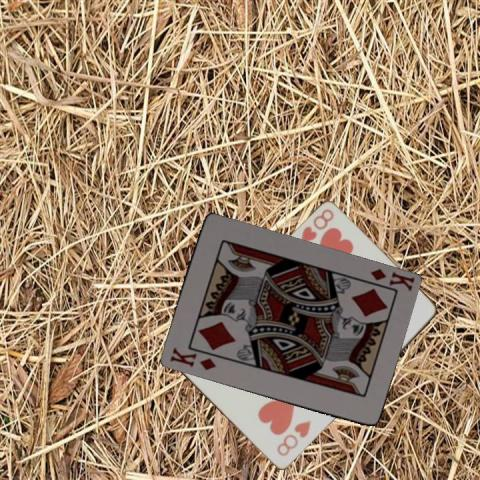8h: (273, 418, 313, 458), (298, 206, 336, 245)
Kd: (358, 266, 415, 294), (167, 345, 217, 372)
